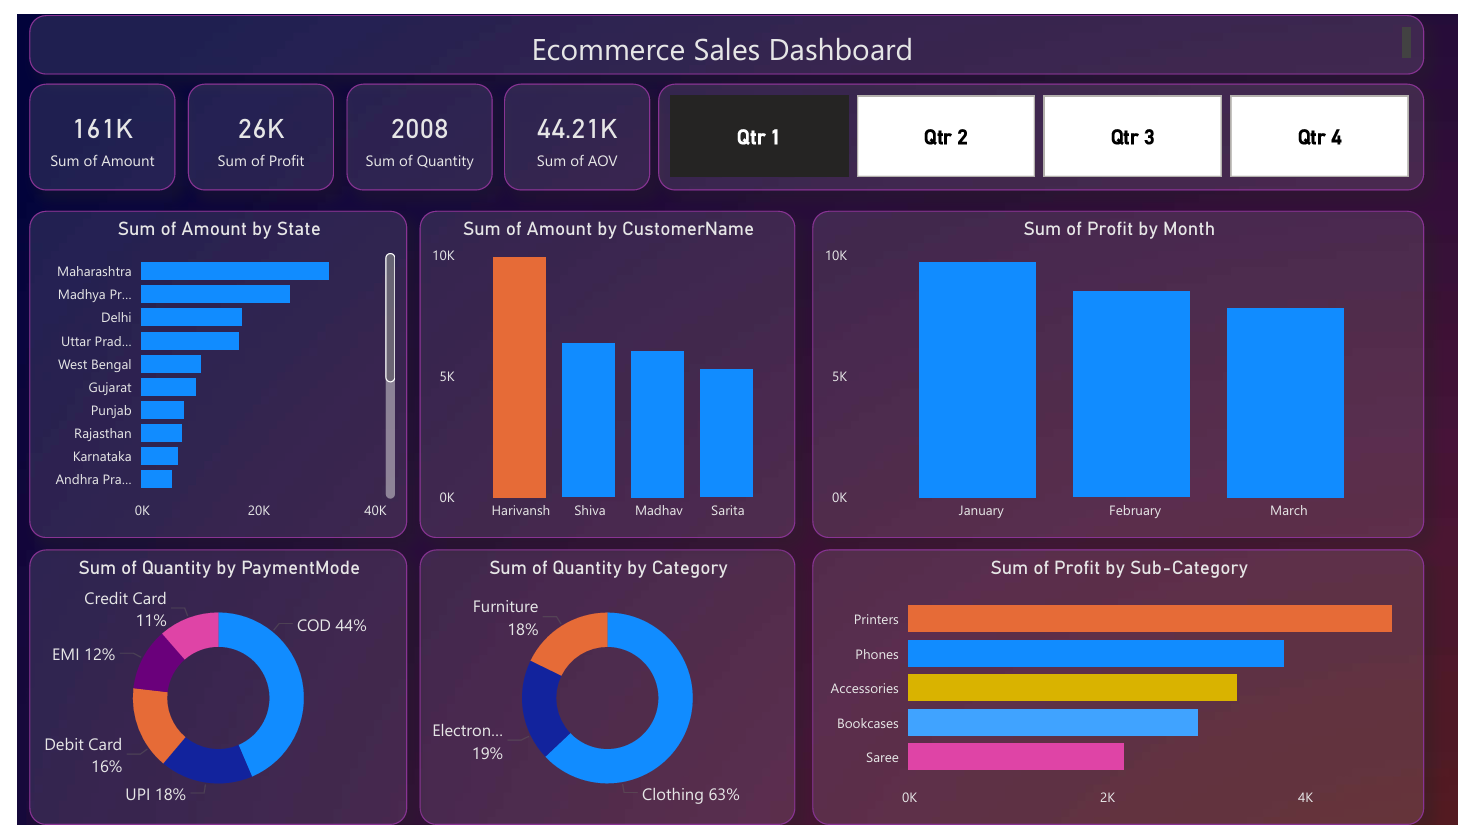

This screenshot's page, from the dashboard's own definition file:
{"tool":"powerbi","page":{"name":"Page 1","canvas":[1280,720],"ordinal":0},"visuals":[{"type":"textbox","box":[9.8,0,1240.5,52.8],"z":0},{"type":"columnChart","fields":{"Category":["Orders.Order Date.Variation.Date Hierarchy.Month"],"Y":["Sum(Details.Profit)"]},"box":[705.5,174.2,544.8,290.8],"z":1000},{"type":"barChart","fields":{"Category":["Details.Sub-Category"],"Y":["Sum(Details.Profit)"]},"box":[705.5,474.8,544.8,245.4],"z":2000},{"type":"donutChart","fields":{"Y":["Sum(Details.Quantity)"],"Category":["Details.Category"]},"box":[357.1,474.8,333.7,245.4],"z":3000},{"type":"donutChart","fields":{"Category":["Details.PaymentMode"],"Y":["Sum(Details.Quantity)"]},"box":[9.8,474.8,336.2,245.4],"z":4000},{"type":"card","fields":{"Values":["Sum(Details.Amount)"]},"box":[9.8,61.4,130.1,94.5],"z":5000},{"type":"card","fields":{"Values":["Sum(Details.Profit)"]},"box":[150.9,61.4,130.1,94.5],"z":6000},{"type":"card","fields":{"Values":["Sum(Details.Quantity)"]},"box":[292,61.4,130.1,94.5],"z":7000},{"type":"card","fields":{"Values":["Sum(Details.AOV)"]},"box":[431.9,61.4,130.1,94.5],"z":8000},{"type":"barChart","fields":{"Category":["Orders.State"],"Y":["Sum(Details.Amount)"]},"box":[9.8,174.2,336.2,290.8],"z":9000},{"type":"columnChart","fields":{"Category":["Orders.CustomerName"],"Y":["Sum(Details.Amount)"]},"box":[357.1,174.2,333.7,290.8],"z":10000},{"type":"advancedSlicerVisual","fields":{"Values":["Orders.Order Date.Variation.Date Hierarchy.Quarter"]},"box":[569.3,61.4,681,94.5],"z":11000}]}

Visuals, with their boxes in screenshot pixels (x1, y1, x2, y2), scaled from the page's 1280x720 canvas onto the 1474x838 screenshot:
textbox: (11, 0, 1440, 61)
columnChart - Orders.Order Date.Variation.Date Hierarchy.Month x Sum(Details.Profit): (812, 203, 1440, 541)
barChart - Details.Sub-Category x Sum(Details.Profit): (812, 553, 1440, 837)
donutChart - Sum(Details.Quantity) x Details.Category: (411, 553, 795, 837)
donutChart - Details.PaymentMode x Sum(Details.Quantity): (11, 553, 398, 837)
card - Sum(Details.Amount): (11, 71, 161, 181)
card - Sum(Details.Profit): (174, 71, 324, 181)
card - Sum(Details.Quantity): (336, 71, 486, 181)
card - Sum(Details.AOV): (497, 71, 647, 181)
barChart - Orders.State x Sum(Details.Amount): (11, 203, 398, 541)
columnChart - Orders.CustomerName x Sum(Details.Amount): (411, 203, 795, 541)
advancedSlicerVisual - Orders.Order Date.Variation.Date Hierarchy.Quarter: (656, 71, 1440, 181)
